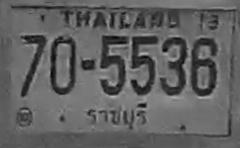0: (49, 34, 76, 94)
3: (160, 36, 186, 94)
5: (130, 34, 158, 94), (100, 34, 128, 94)
6: (190, 36, 217, 96)
7: (20, 34, 46, 96)
RBR: (84, 99, 151, 131)
